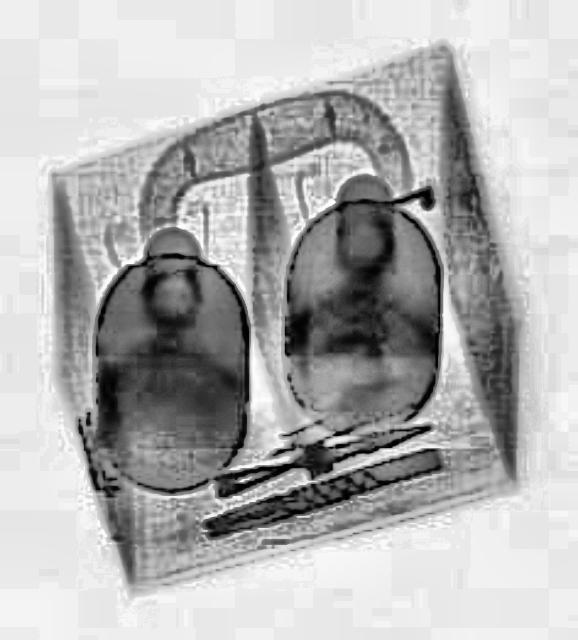Knife: (208, 404, 432, 504)
